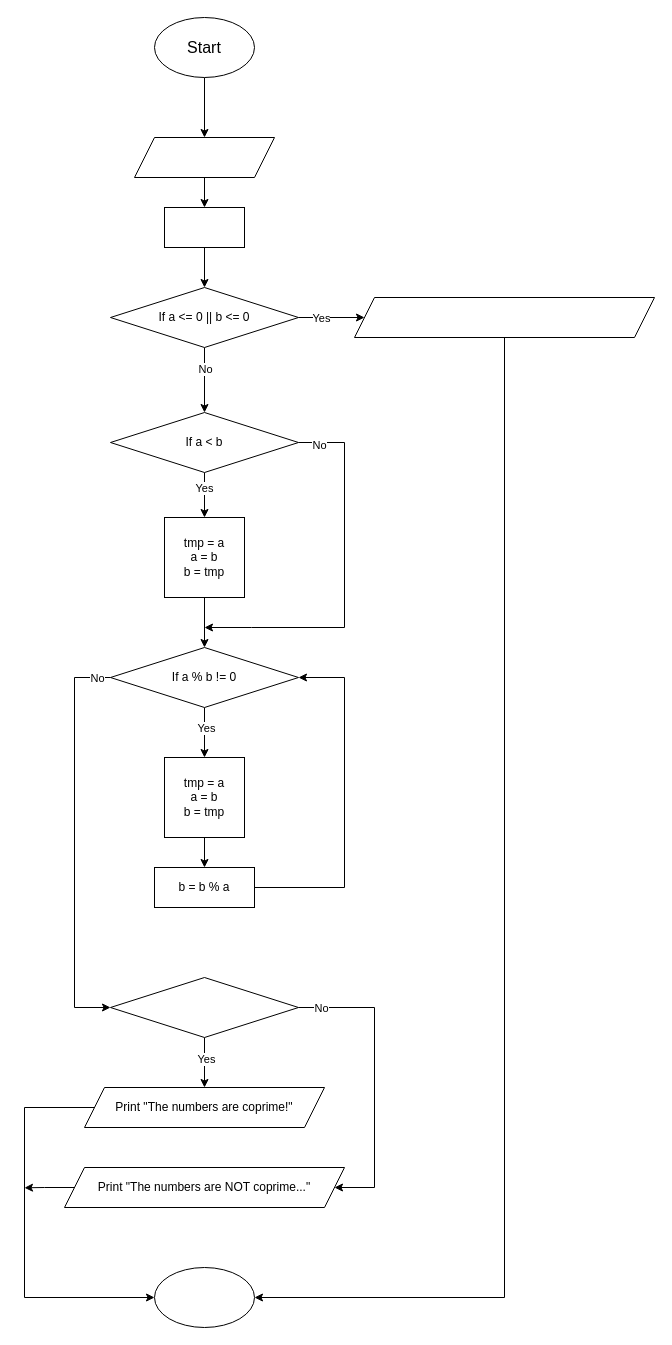
The diagram is 672 pixels wide and 1345 high, and some of its shapes have lost their labels. Each missing label, with the box of its shape:
End: (154, 1266, 254, 1328)
If b == 1: (110, 976, 298, 1038)
Print "Both a and b must be greater than zero!": (354, 296, 654, 338)
Read a, b: (134, 136, 274, 178)
tmp = a: (164, 206, 244, 248)
